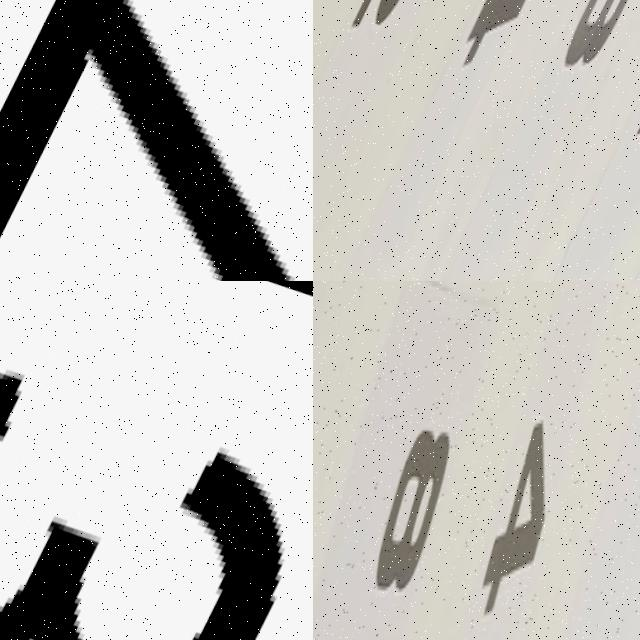0: (313, 324, 361, 618), (313, 0, 351, 168)
2: (322, 0, 489, 103)
3: (0, 295, 313, 640)
4: (419, 387, 638, 640), (441, 0, 591, 113)
6: (599, 382, 640, 626)
7: (596, 0, 640, 248)
8: (325, 389, 517, 640), (533, 0, 640, 143)
Z: (0, 0, 313, 281)
